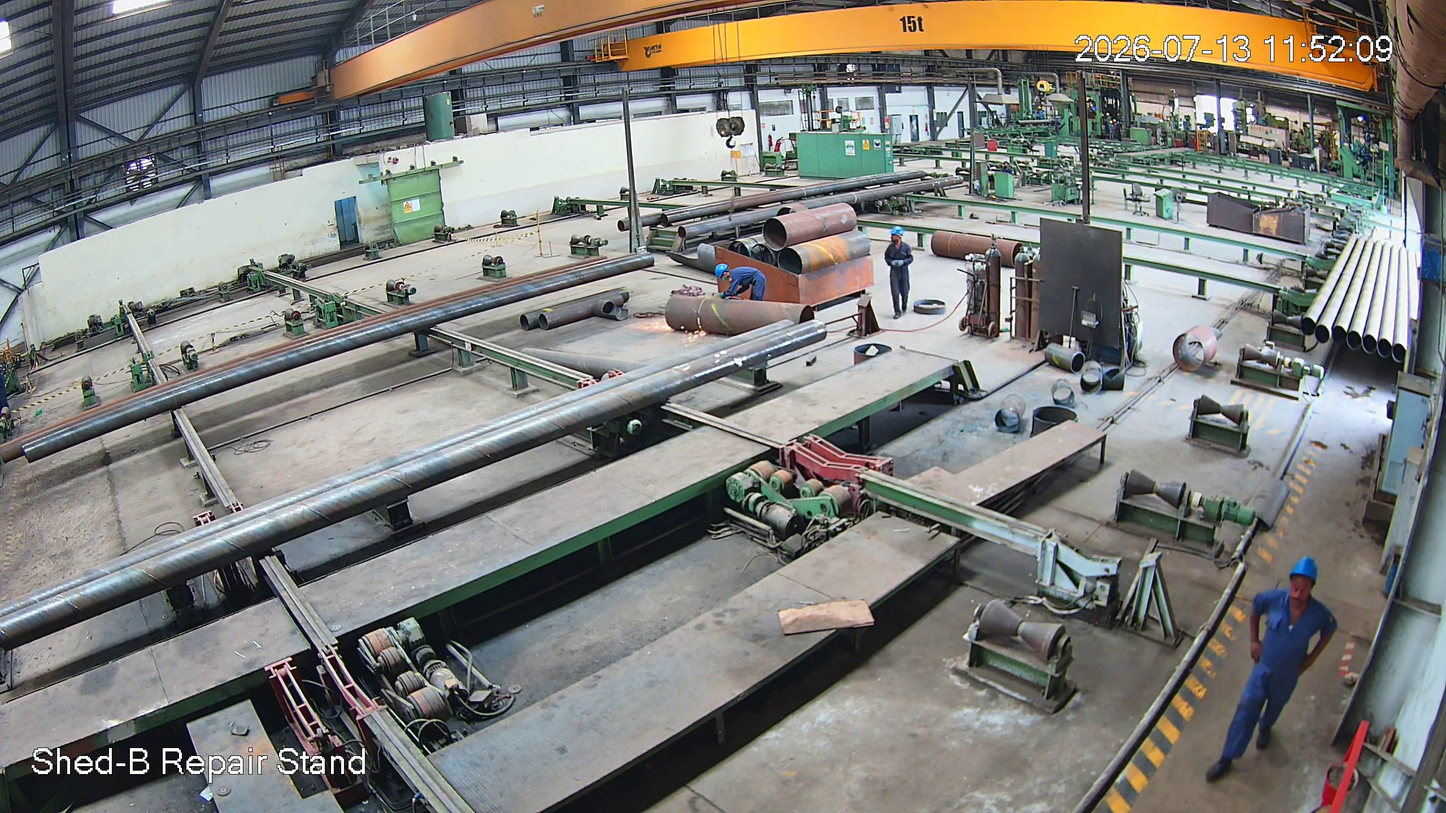Helmet: (1284, 558, 1335, 630), (712, 262, 734, 285), (890, 226, 906, 244)
Person: (1218, 560, 1339, 793), (713, 264, 769, 305), (888, 228, 912, 317)
